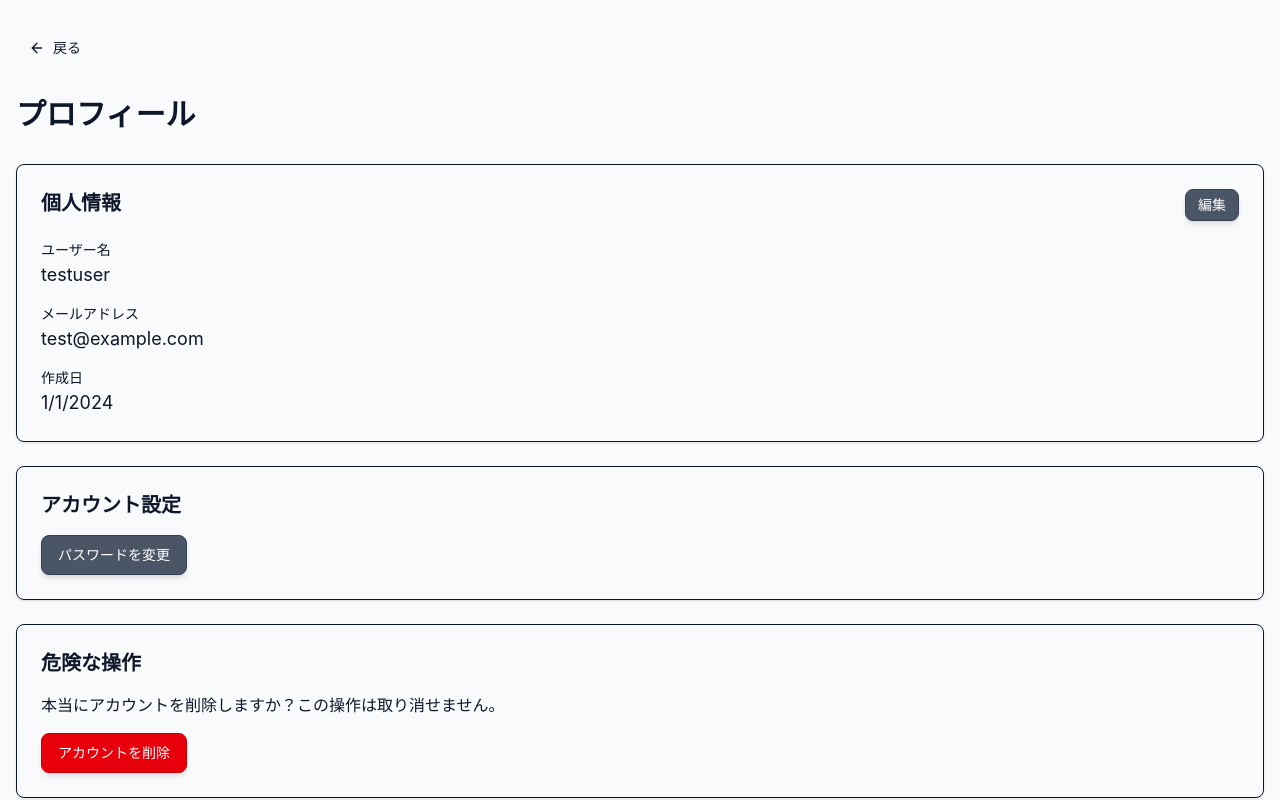
Test case: ProfilePage › opens edit profile modal when edit button is clicked
Step 1. Click the button "編集" → x=1212, y=205, box [1185,189,1239,221]
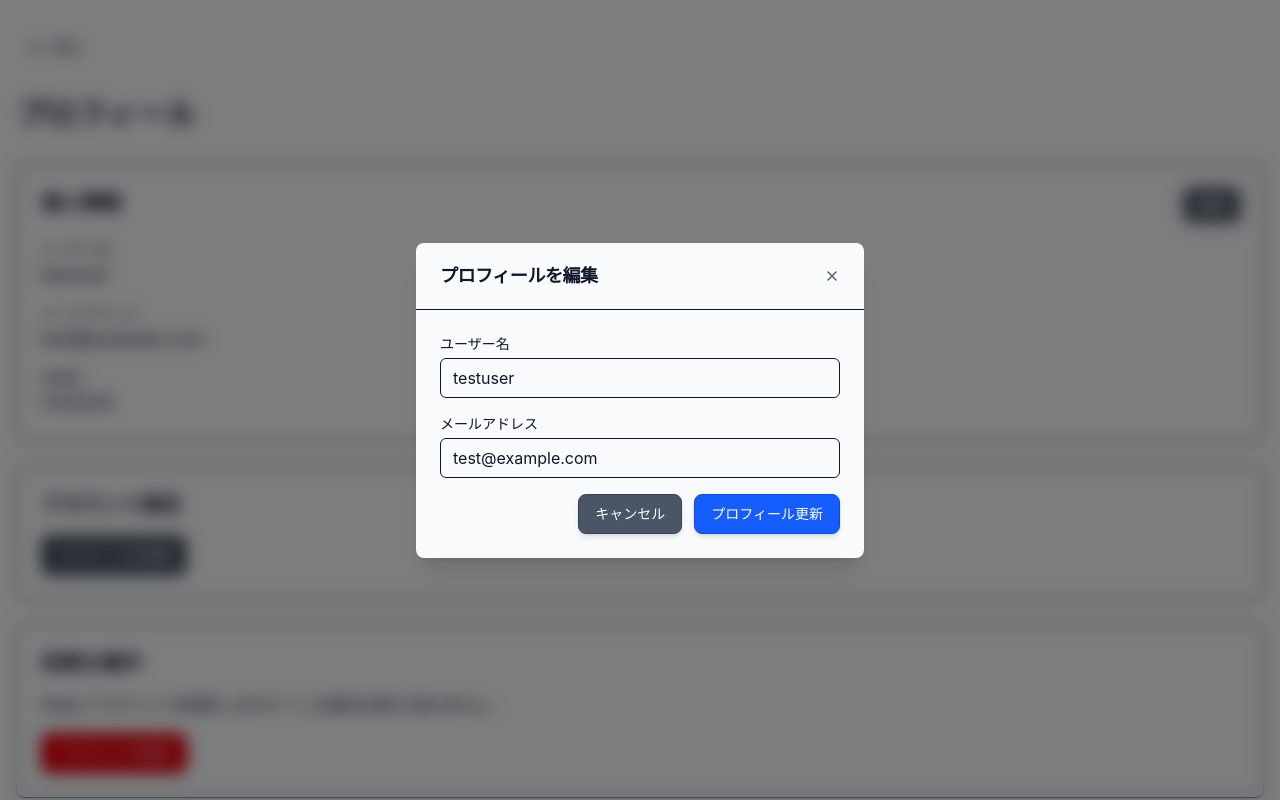
Result: the heading "プロフィールを編集" is shown at [440,266,598,284]
Result: the field labelled "ユーザー名" holds "testuser" at [440,358,840,398]
Result: the field labelled "メールアドレス" holds "test@example.com" at [440,438,840,478]
